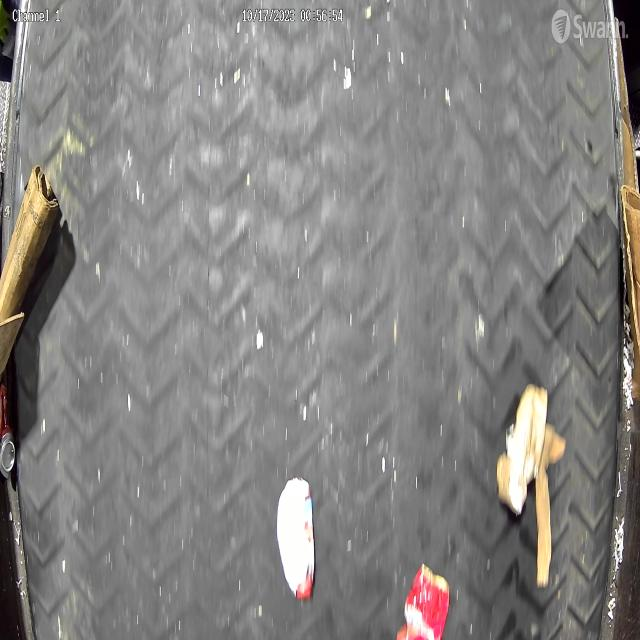can: (0, 386, 16, 478)
